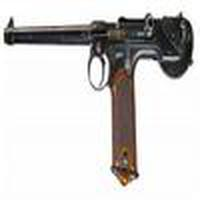gun: (3, 7, 198, 102)
